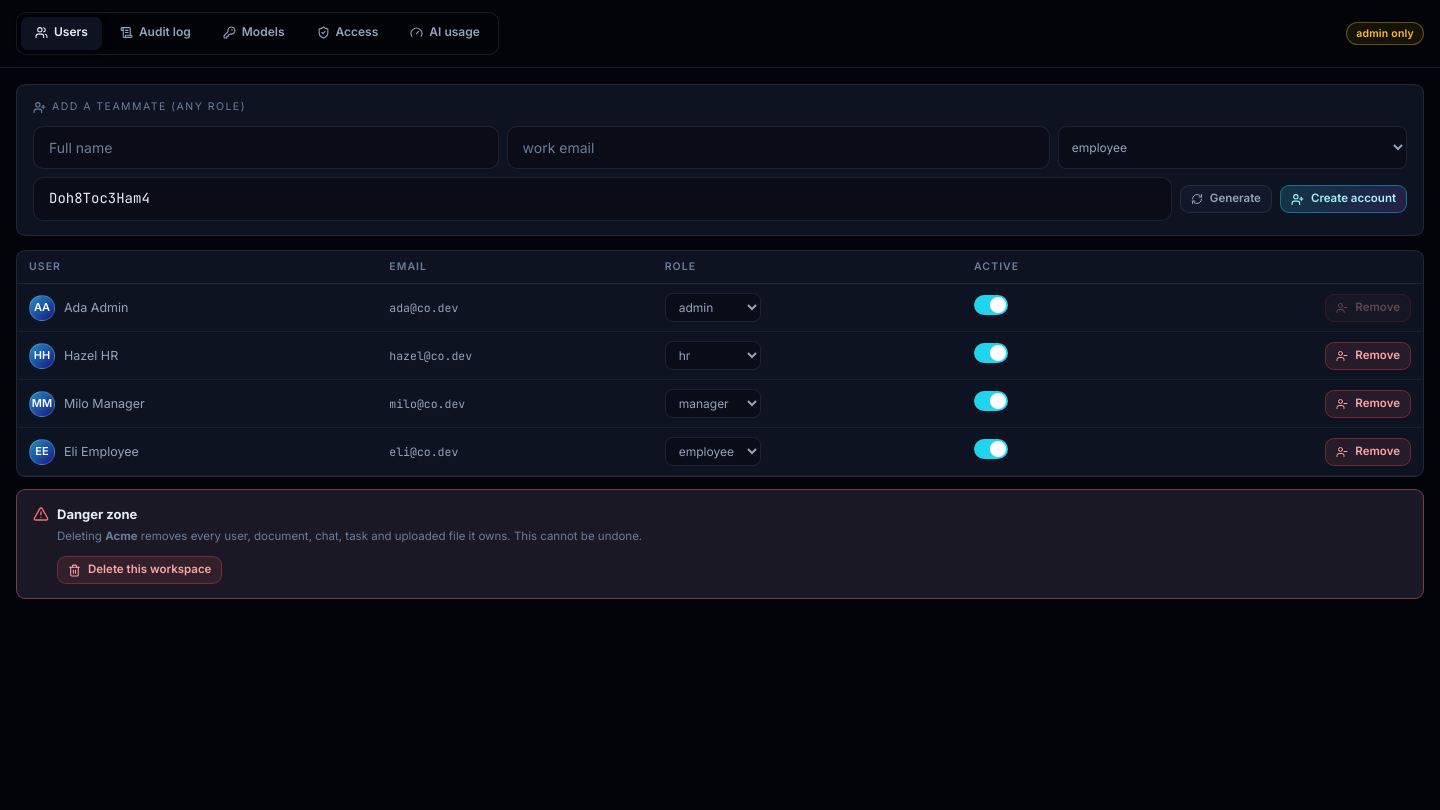
Test: the confirmation › asks before doing anything
What coordinates should you click on to do the following:
click the button "Remove" in the row of "Eli Employee"
I would click on:
 (1368, 452)
Its box is [1325, 438, 1411, 466].
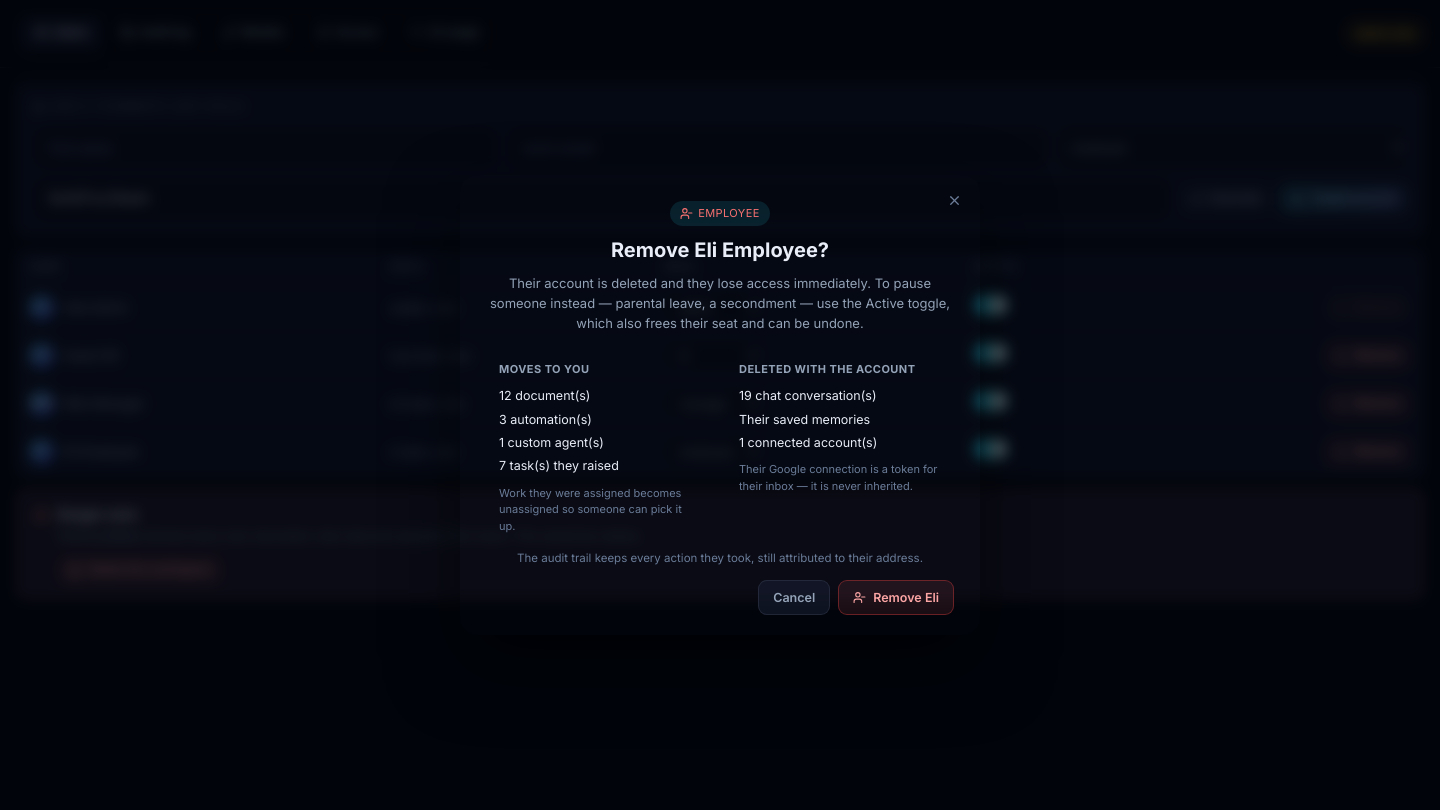
Expected: the element with test id "remove-dialog" is shown, [460, 175, 980, 635]
